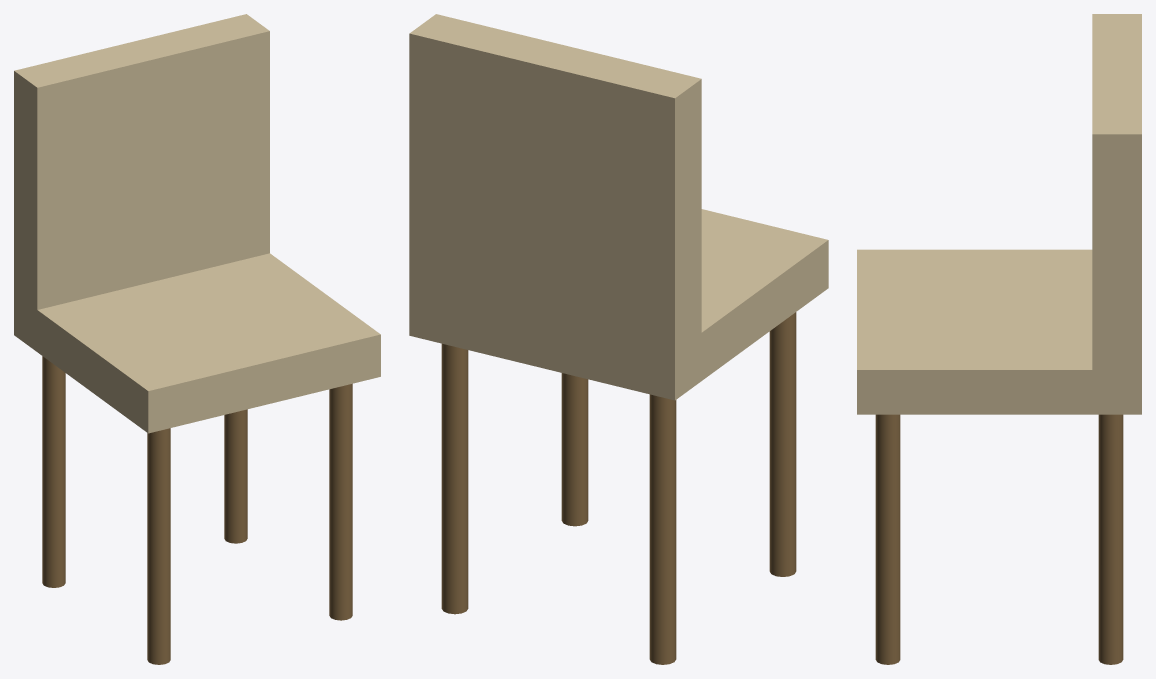
The model's file is chair-modern.glb.
The picture shows the model from 3 angles, left to right: view 1: azimuth 30°, elevation 25°; view 2: azimuth 150°, elevation 25°; view 3: azimuth 270°, elevation 25°; orthographic projection. The views are drawn at different scales.
Bounding box in the file's own units: 0.46 × 0.96 × 0.46.
